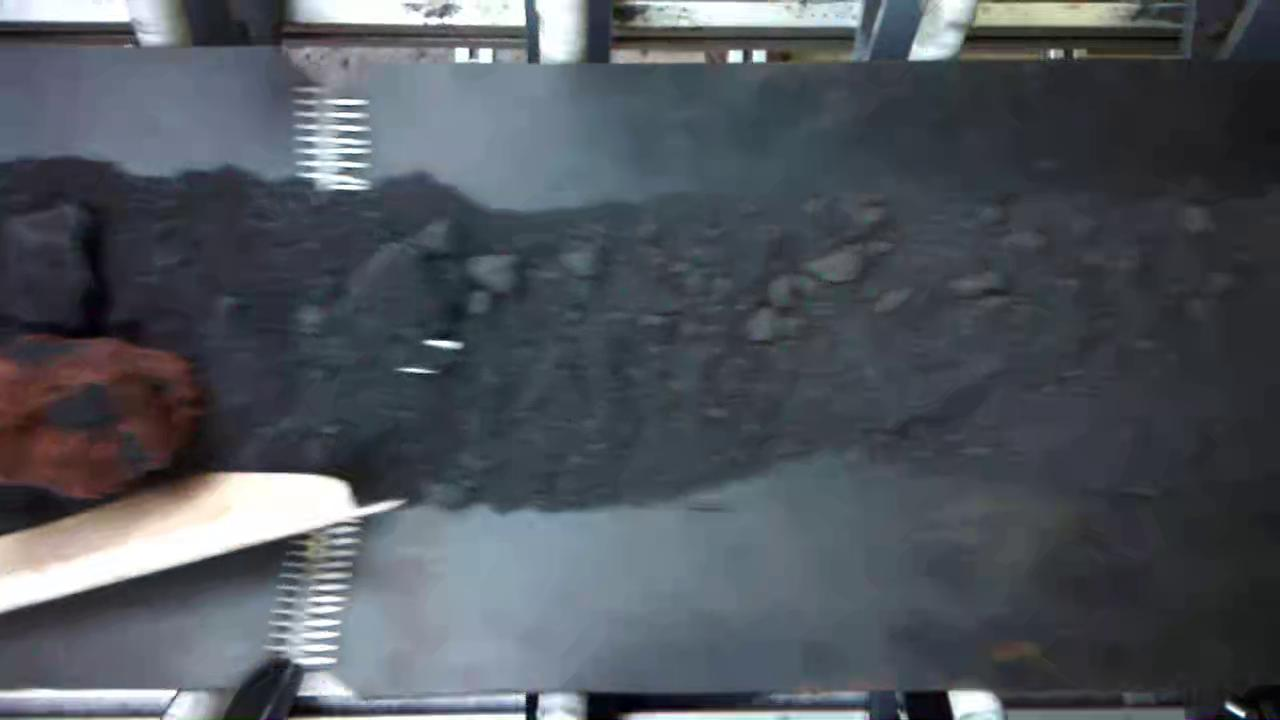conveyor: (5, 68, 1280, 689)
